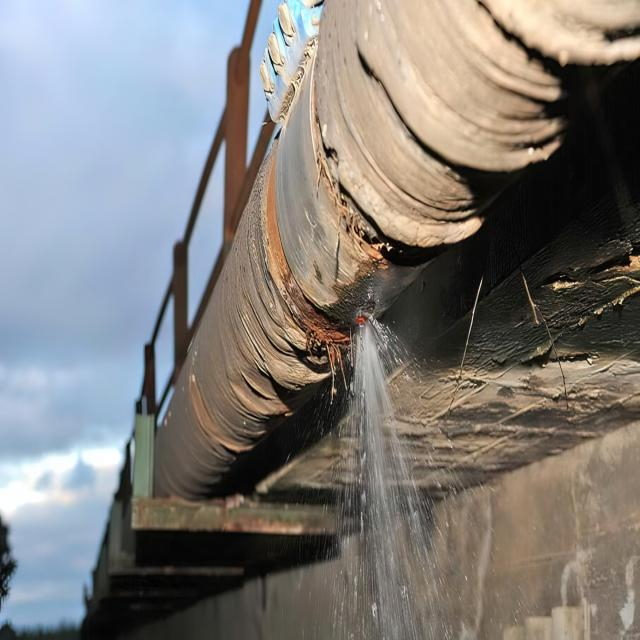leak: (341, 322, 445, 639)
